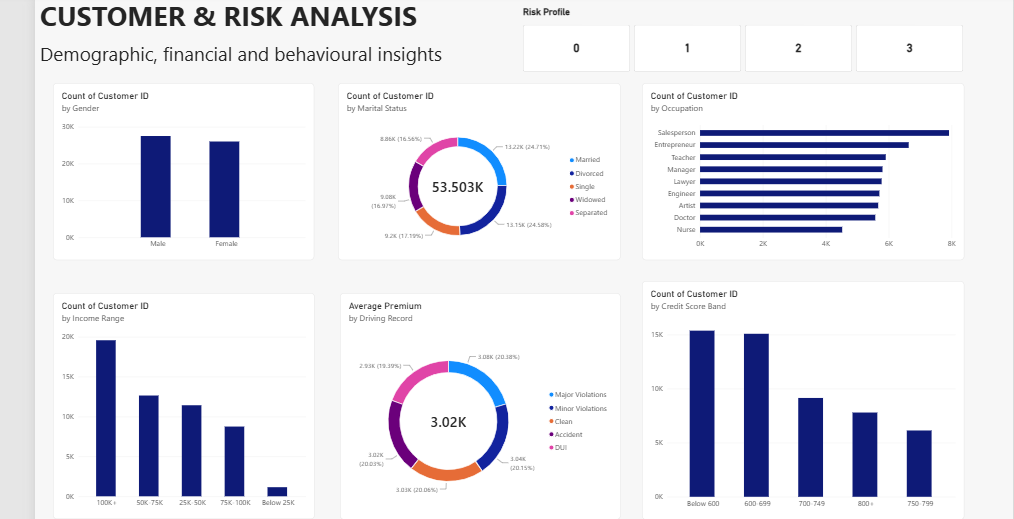

Layout of this report page (visuals, bound fields, positions):
{"tool":"powerbi","page":{"name":"Page 2","canvas":[1920,1080],"ordinal":1},"visuals":[{"type":"textbox","box":[10.2,0,777.1,88.9],"z":0},{"type":"textbox","box":[10.2,88.9,805.1,81.3],"z":1000},{"type":"clusteredColumnChart","fields":{"Category":["Sheet1.Gender"],"Y":["CountNonNull(Sheet1.Customer ID)"]},"box":[35.6,170.2,513,347.9],"z":2000},{"type":"donutChart","fields":{"Category":["Sheet1.Marital Status"],"Y":["CountNonNull(Sheet1.Customer ID)"]},"box":[594,170.6,555.1,347.8],"z":3000},{"type":"clusteredBarChart","fields":{"Category":["Sheet1.Occupation"],"Y":["CountNonNull(Sheet1.Customer ID)"]},"box":[1192.3,170.6,632.9,347.8],"z":4000},{"type":"clusteredColumnChart","fields":{"Category":["Sheet1.Income Range"],"Y":["CountNonNull(Sheet1.Customer ID)"]},"box":[34.9,583.7,514,444.2],"z":5000},{"type":"donutChart","fields":{"Category":["Sheet1.Driving Record"],"Y":["Sheet1.Average Premium"]},"box":[598.3,583.2,550.8,445],"z":6000},{"type":"clusteredColumnChart","fields":{"Category":["Sheet1.Credit Score Band"],"Y":["CountNonNull(Sheet1.Customer ID)"]},"box":[1192.3,559.4,632.9,468.7],"z":7000},{"type":"advancedSlicerVisual","fields":{"Values":["Sheet1.Risk Profile"]},"box":[959,19.4,866.2,129.6],"z":7001}]}

Visuals, with their boxes on the page's 1920x1080 design canvas (x1, y1, x2, y2). These are canvas units, not pixel positions in the 1014x519 screenshot, which may show the page scaled, cropped or inside an application window:
textbox: 10, 0, 787, 89
textbox: 10, 89, 815, 170
clusteredColumnChart - Sheet1.Gender x CountNonNull(Sheet1.Customer ID): 36, 170, 549, 518
donutChart - Sheet1.Marital Status x CountNonNull(Sheet1.Customer ID): 594, 171, 1149, 518
clusteredBarChart - Sheet1.Occupation x CountNonNull(Sheet1.Customer ID): 1192, 171, 1825, 518
clusteredColumnChart - Sheet1.Income Range x CountNonNull(Sheet1.Customer ID): 35, 584, 549, 1028
donutChart - Sheet1.Driving Record x Sheet1.Average Premium: 598, 583, 1149, 1028
clusteredColumnChart - Sheet1.Credit Score Band x CountNonNull(Sheet1.Customer ID): 1192, 559, 1825, 1028
advancedSlicerVisual - Sheet1.Risk Profile: 959, 19, 1825, 149
